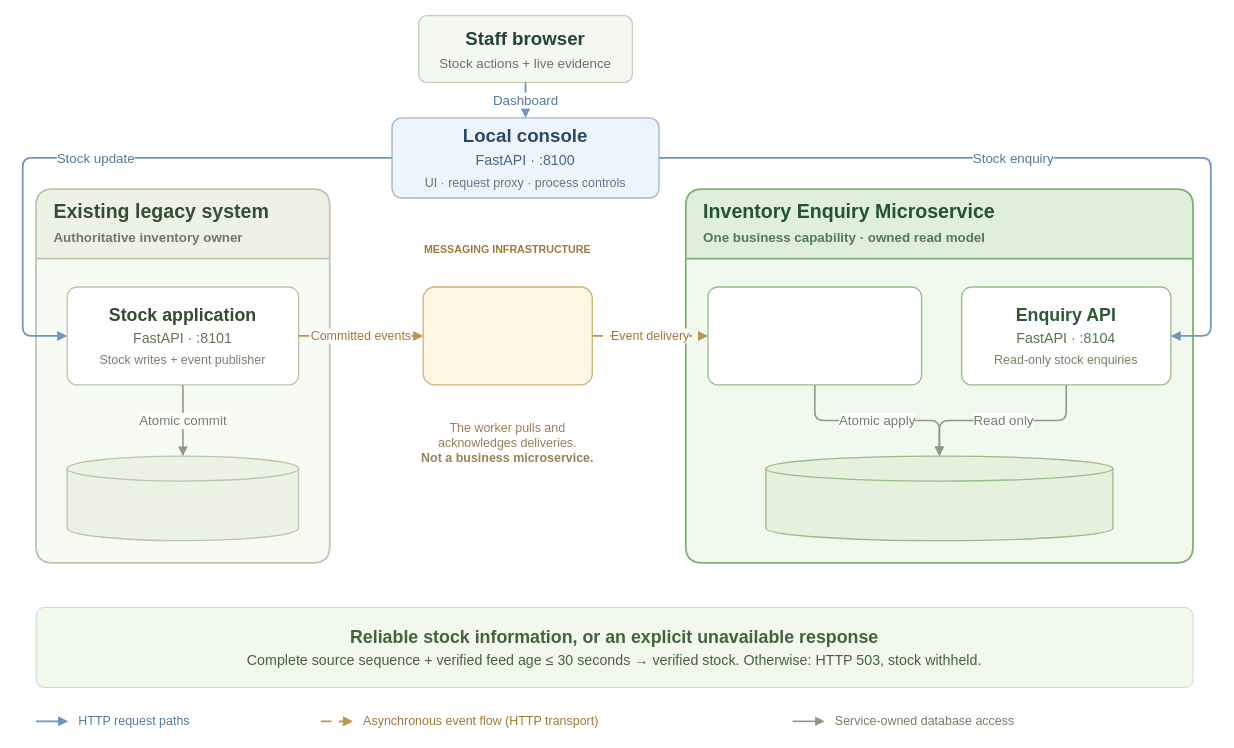
Image size: 1234x748. Some labels were removed from this diagram. Each missing label, with the centre of its shape:
"Durable queue HTTP · :8102 Lease · retry · ACK" goes at (x=507, y=335).
"Enquiry-owned database SQLite · read model + event IDs + checkpoint" goes at (x=939, y=498).
"Legacy database SQLite · stock + versions + outbox" goes at (x=182, y=498).
"Synchronisation worker Python · :8103 Idempotent event processing" goes at (x=814, y=335).
